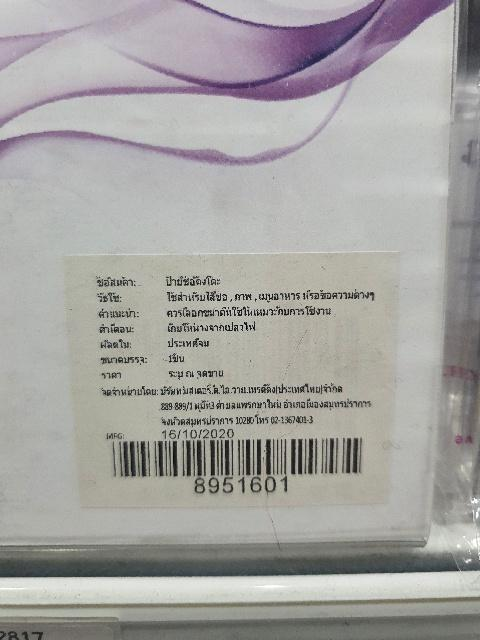Barcode: (102, 430, 373, 495)
